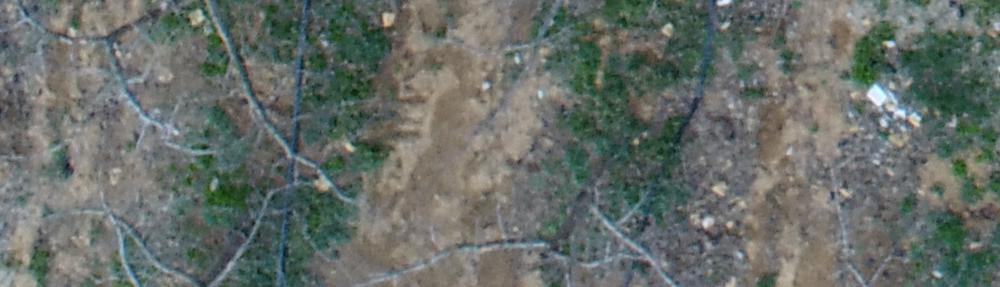apple: (10, 10, 425, 203)
